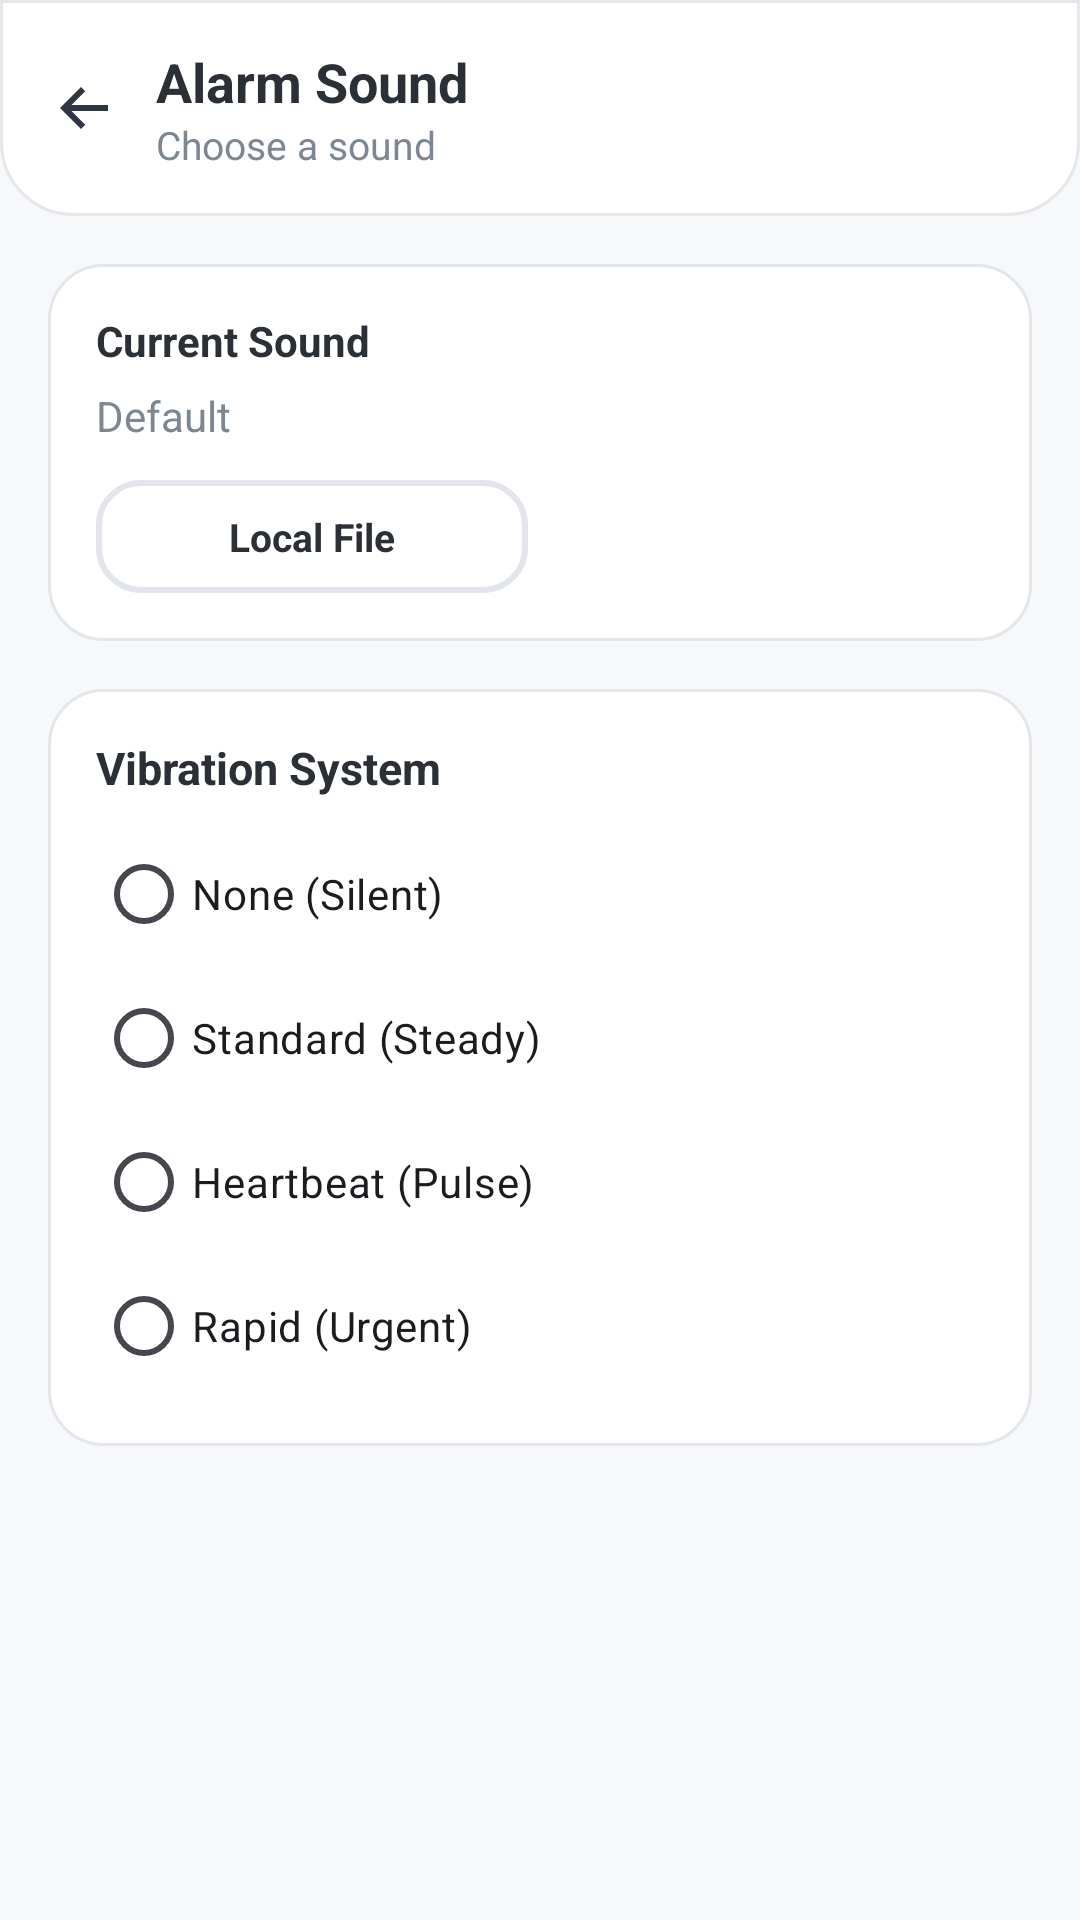

Icons on this 1080×1920 Android screen, each with the point to tap as (x,y):
Back: (84,108)
